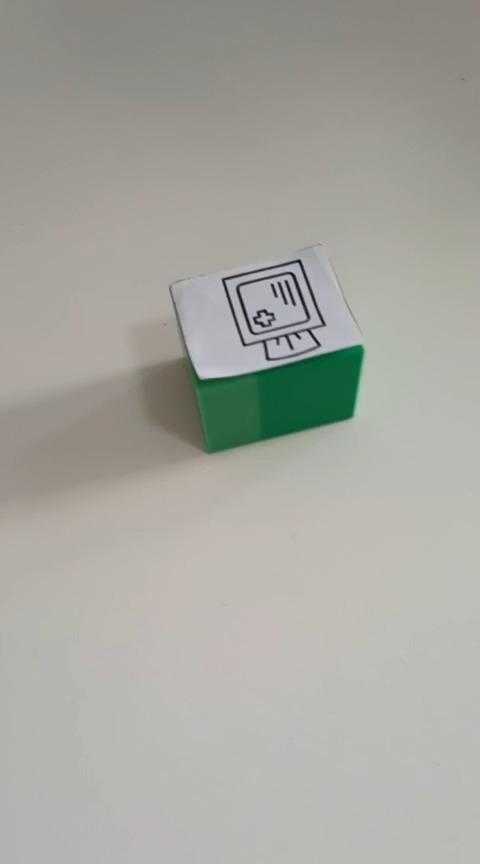Gauze: (167, 241, 366, 453)
